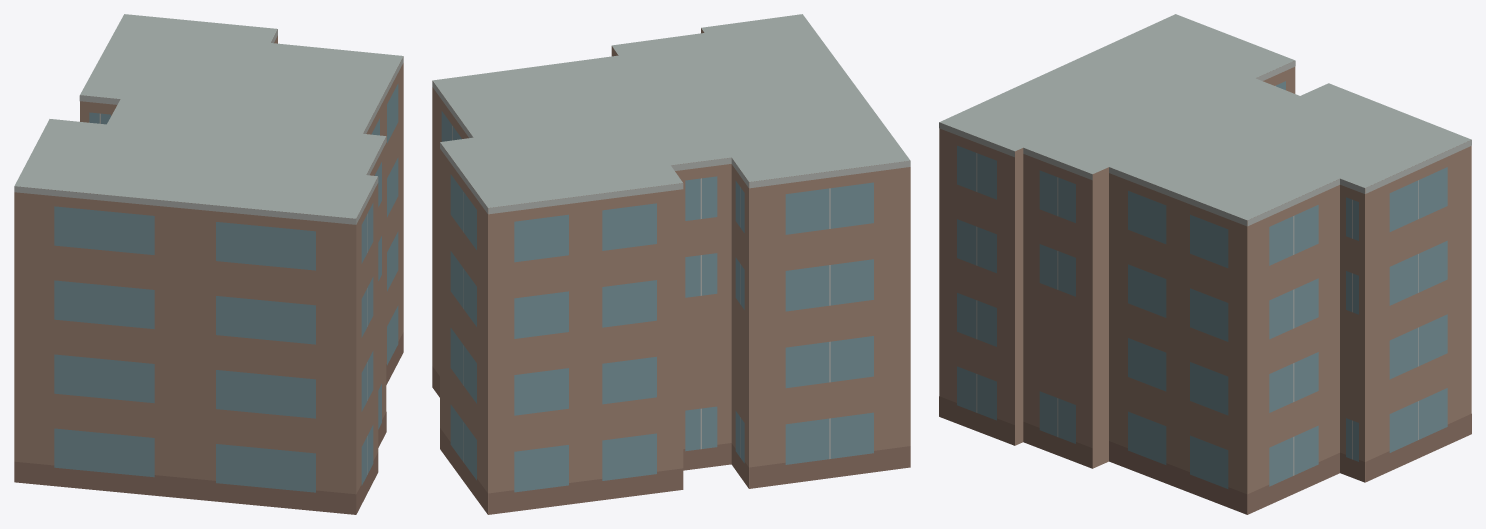
The model's file is survey-upis-32534478.glb.
3 renders of one model, left to right at view 1: azimuth 30°, elevation 25°; view 2: azimuth 150°, elevation 25°; view 3: azimuth 270°, elevation 25°, orthographic. The views are drawn at different scales.
Parts seen in each view (by area): view 1: survey-upis-32534478.tmp; view 2: survey-upis-32534478.tmp; view 3: survey-upis-32534478.tmp.
Boxes of the visible parts, x1,y1,x2,y2 form: survey-upis-32534478.tmp: [14, 14, 403, 514]; survey-upis-32534478.tmp: [432, 14, 910, 514]; survey-upis-32534478.tmp: [939, 14, 1471, 514].
Bounding box in the file's own units: 17.85 × 11.87 × 19.47.
